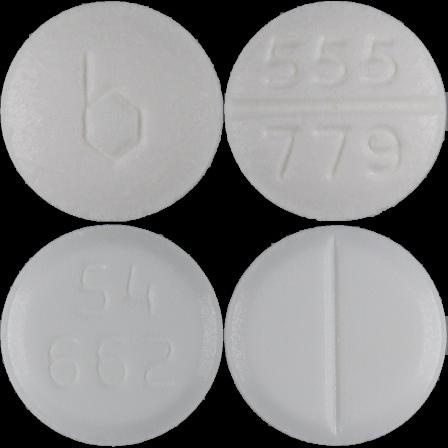63187-382: (0, 0, 224, 224)
